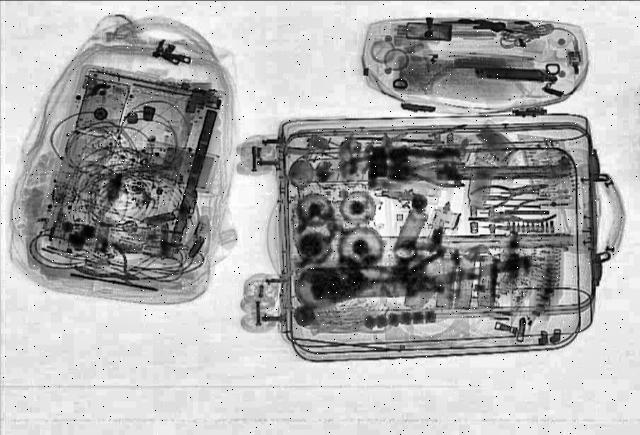Pliers: (73, 241, 161, 295), (465, 195, 561, 233), (466, 176, 554, 212), (390, 160, 466, 188)
